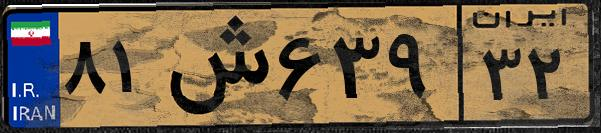1: (110, 28, 158, 98)
2: (525, 38, 570, 115)
3: (330, 28, 385, 110), (475, 38, 525, 113)
6: (270, 28, 330, 110)
8: (57, 26, 110, 100)
9: (385, 28, 445, 110)
ش: (158, 12, 270, 120)
